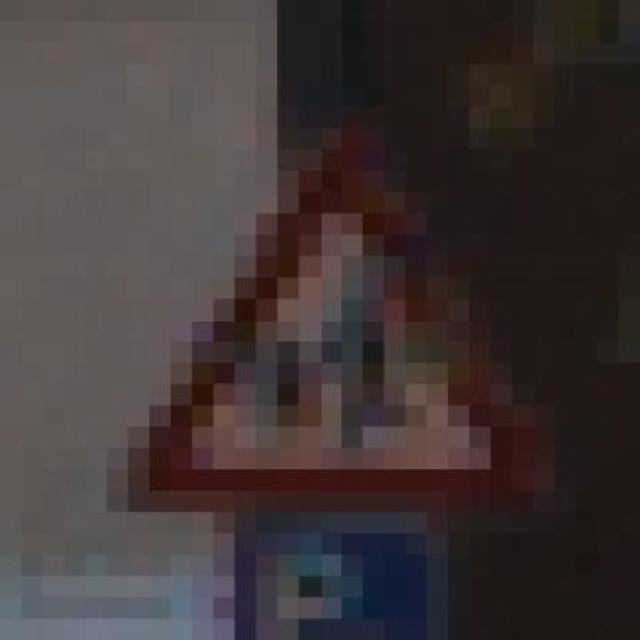Beware of children: (85, 106, 533, 534)
